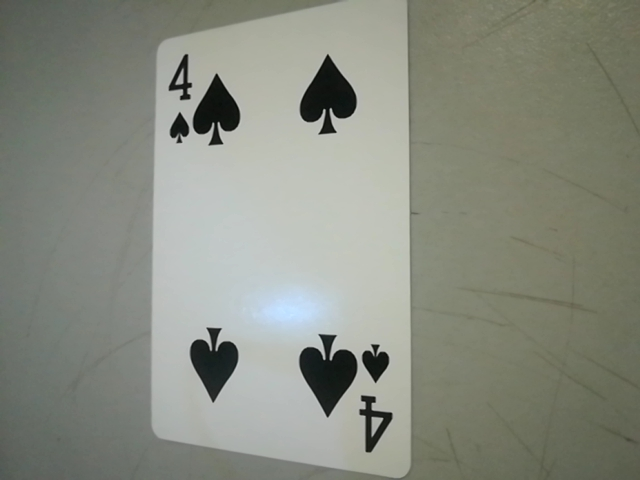ht 4: (347, 329, 404, 470)
